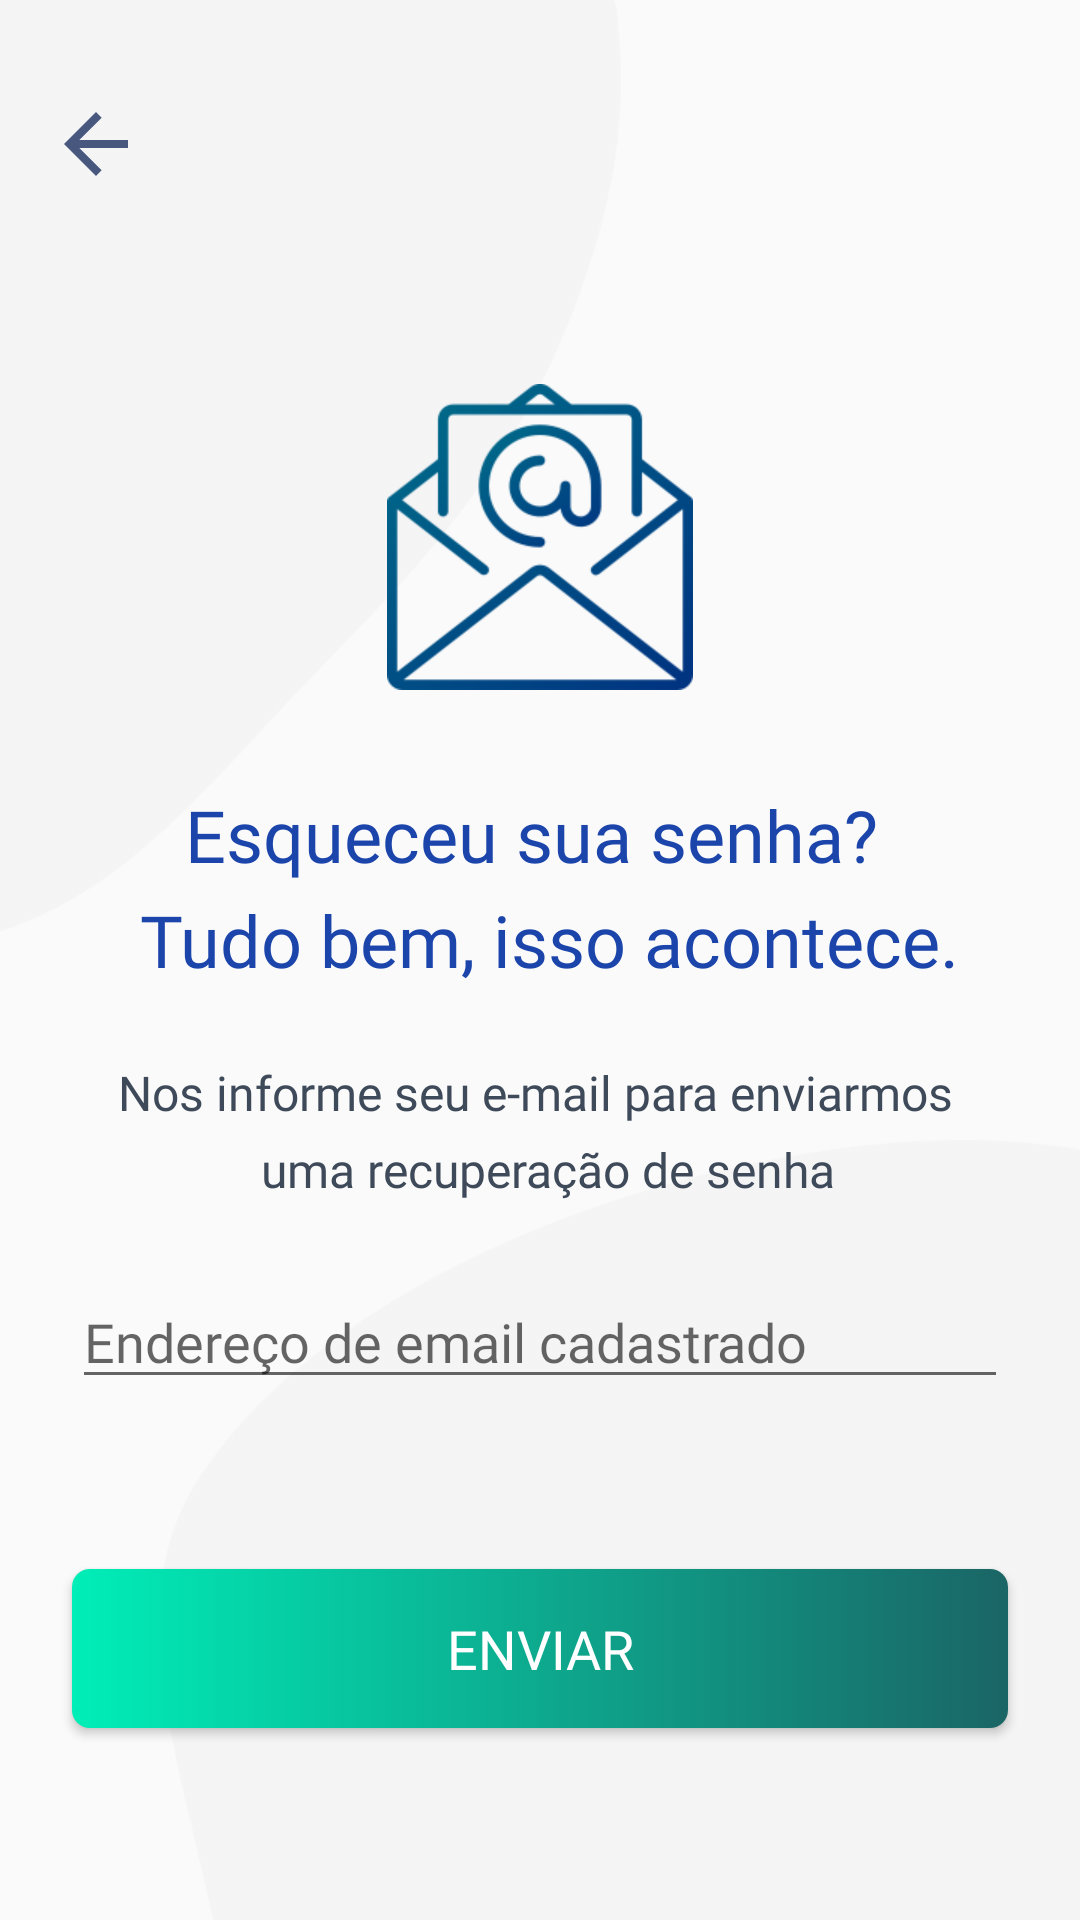

Icon click points for this 1080px x 1920px phone screenshot, format point (x, y):
arrow back: point (96, 144)
recovery: point (540, 537)
